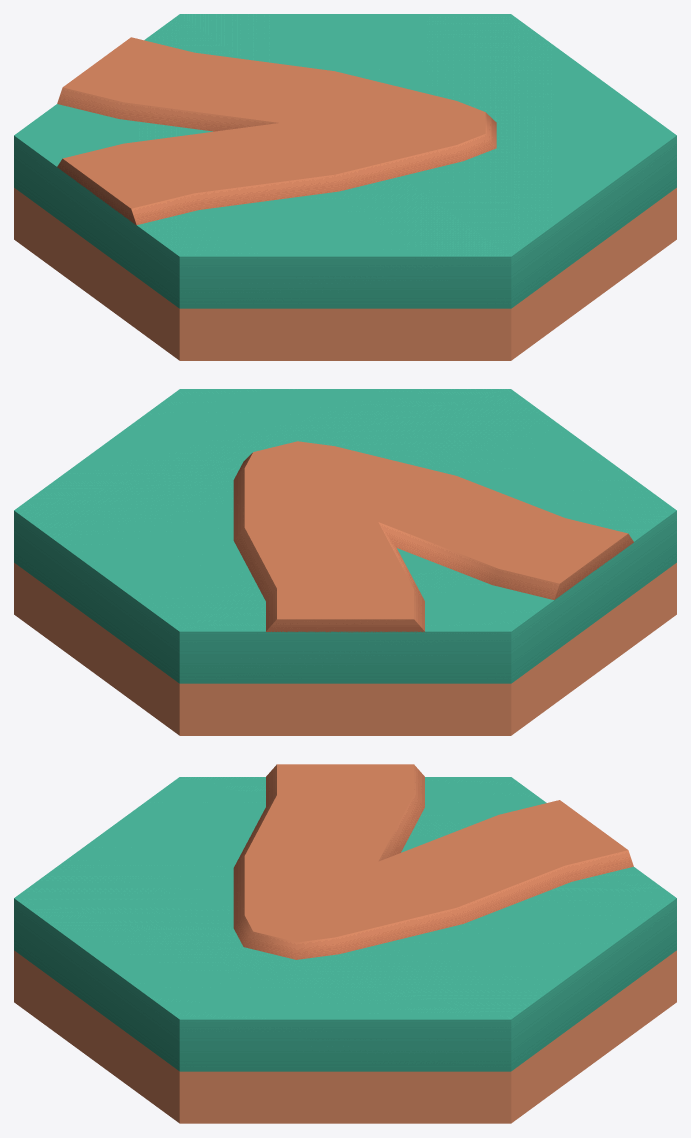
File: grass-path-corner-sharp.glb
3 views of the same model, one above another, from view 1: azimuth 30°, elevation 25°; view 2: azimuth 150°, elevation 25°; view 3: azimuth 270°, elevation 25° (orthographic).
Parts seen in each view (by area): view 1: grass, path-corner-sharp; view 2: grass, path-corner-sharp; view 3: grass, path-corner-sharp.
Boxes of the visible parts, x1=… form: grass: x1=14, y1=14, x2=676, y2=360; path-corner-sharp: x1=57, y1=37, x2=496, y2=225; grass: x1=14, y1=389, x2=676, y2=735; path-corner-sharp: x1=233, y1=441, x2=633, y2=632; grass: x1=14, y1=777, x2=676, y2=1123; path-corner-sharp: x1=233, y1=764, x2=633, y2=959.
Size of the model in its own units: 1 by 0.224 by 1.15.
Materials: 1 (1 with a texture image).
